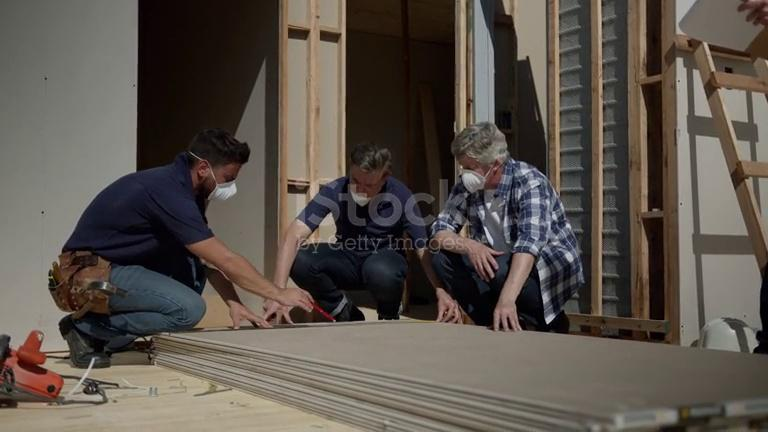helmet: (699, 318, 751, 352)
mask: (347, 176, 374, 206), (203, 180, 238, 200), (459, 171, 485, 195)
person: (42, 131, 312, 366), (263, 140, 458, 324), (416, 123, 582, 333)
